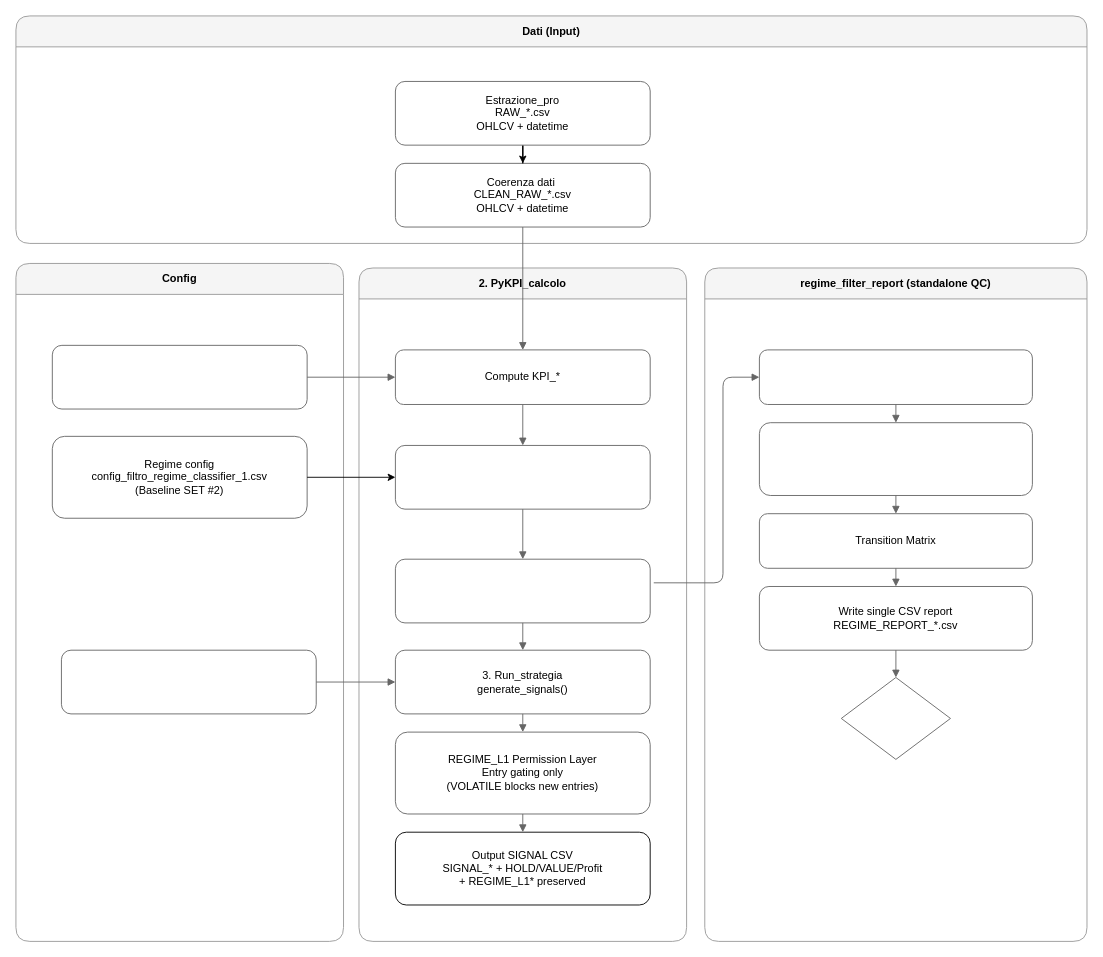
This 1103x957 diagram has some shape labels left out. The shapes that lost their labels are listed below. From the top down, each one's centre as x and y in pixels, then its label:
(x=179, y=376): KPI config KPI_defaults.xlsx / config dir
(x=895, y=376): Load KPI_* + REGIME_L1*
(x=522, y=477): Apply Regime Module regime_classifier_1
(x=895, y=458): Compute QC metrics Coverage • Run-length • Sticky • Separation
(x=522, y=590): Output KPI CSV KPI_CLEAN_RAW_* + REGIME_L1*
(x=188, y=681): Strategy config config_strategy_*.xlsx
(x=895, y=718): Tuning OK?
